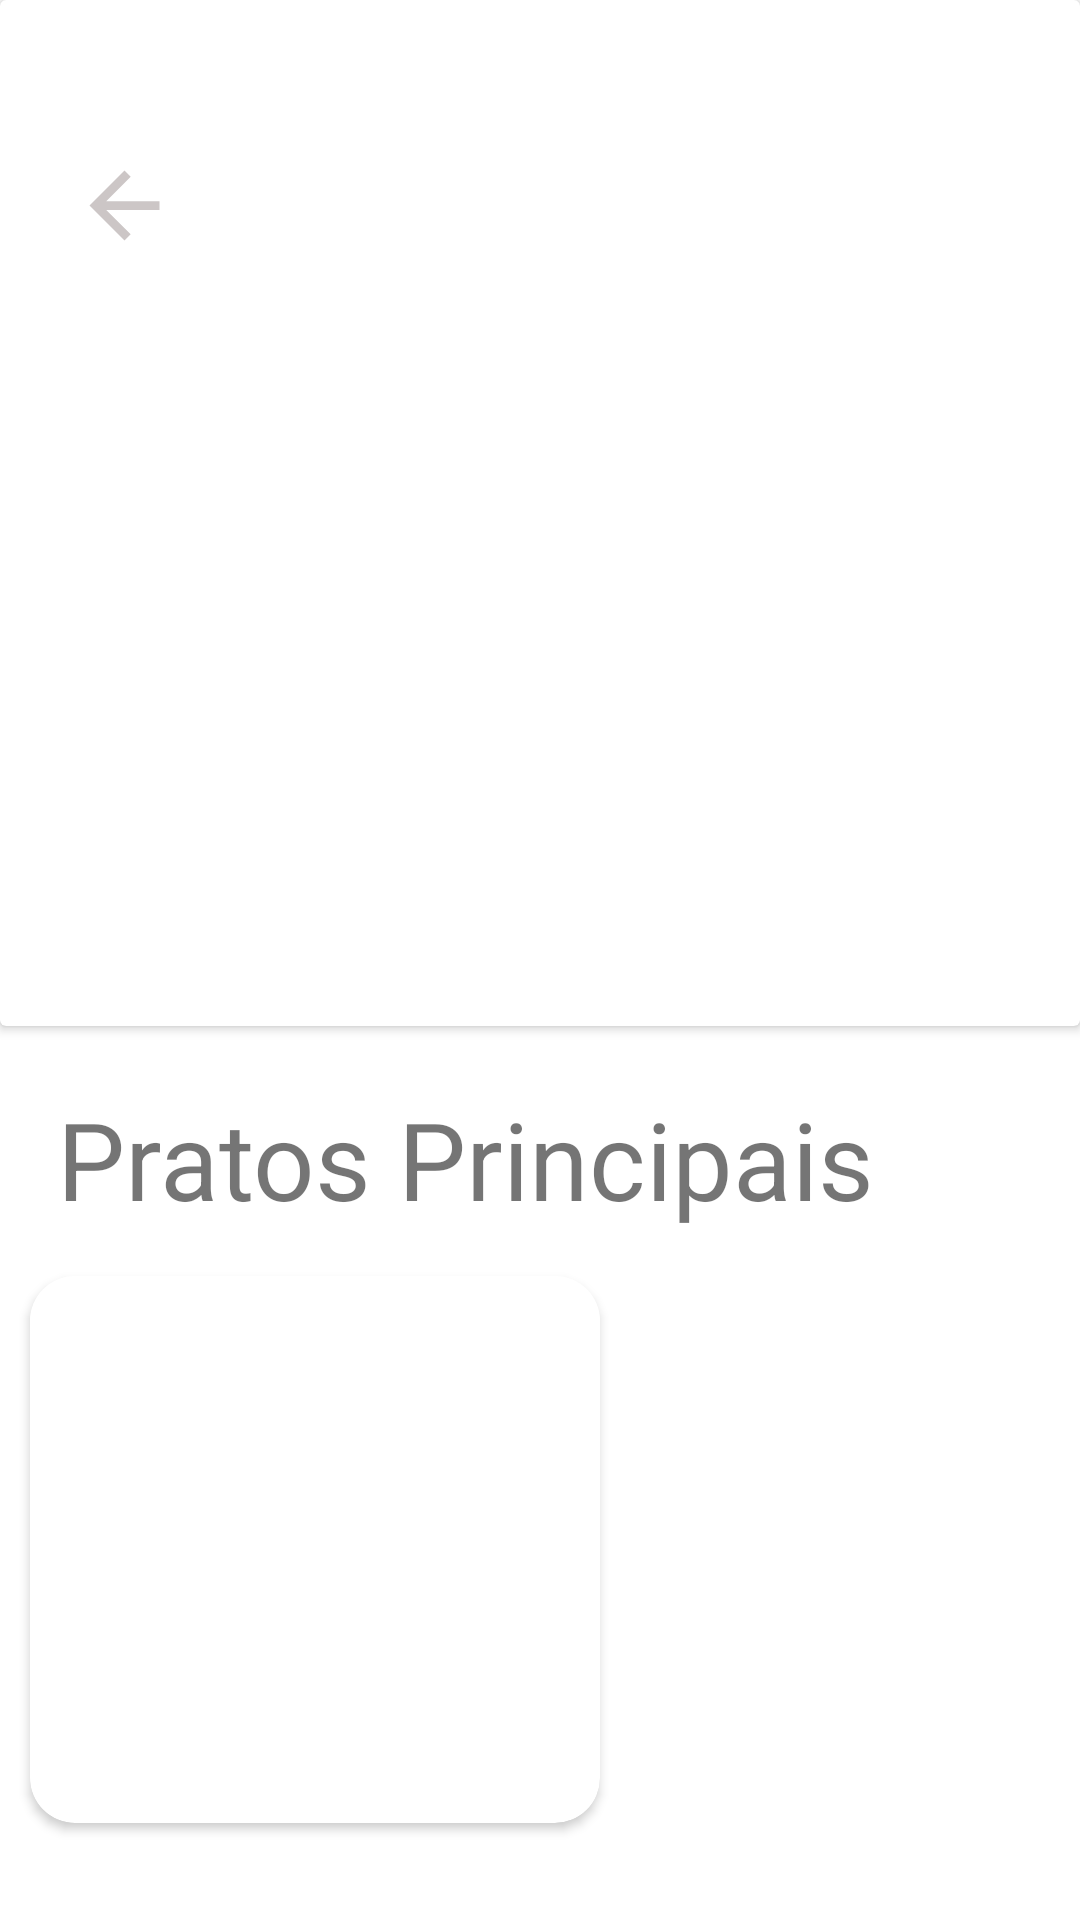

Named icons in this screenshot (1080 x 1920) and their bounding boxes, (x1, y1, x2, y2):
arrow back: (90, 171, 160, 240)
